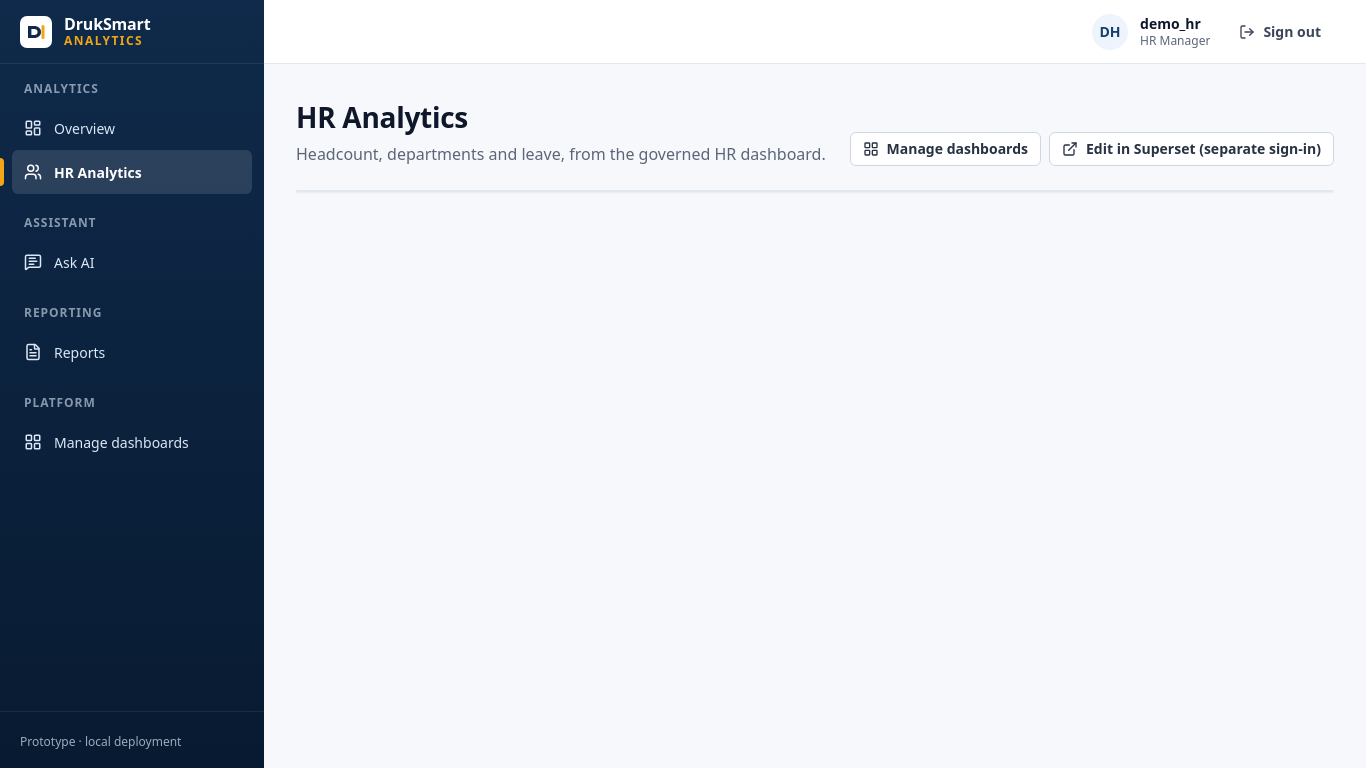
Test: sign-out and session expiry › signs out through the API with the CSRF token and returns to the sign-in page
Click the button "Sign out": click(1280, 32) [1226, 14, 1334, 48]
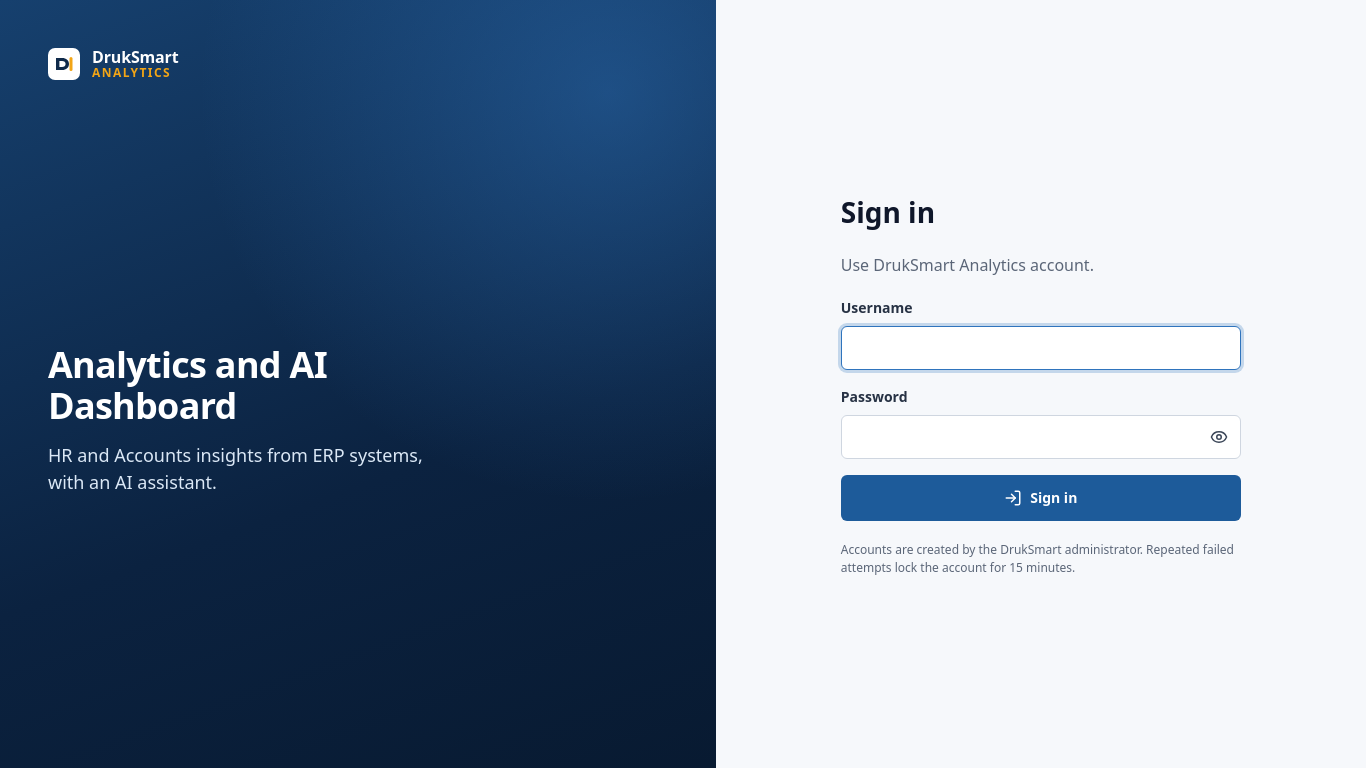
expect the heading "Sign in" is shown: met, box [841, 193, 935, 231]
